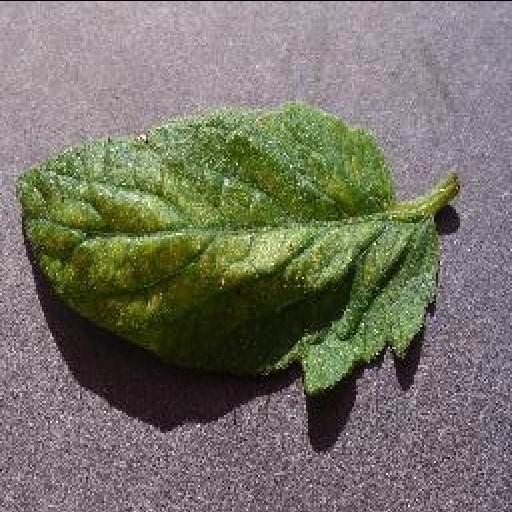disease_tomato: (14, 107, 440, 397)
